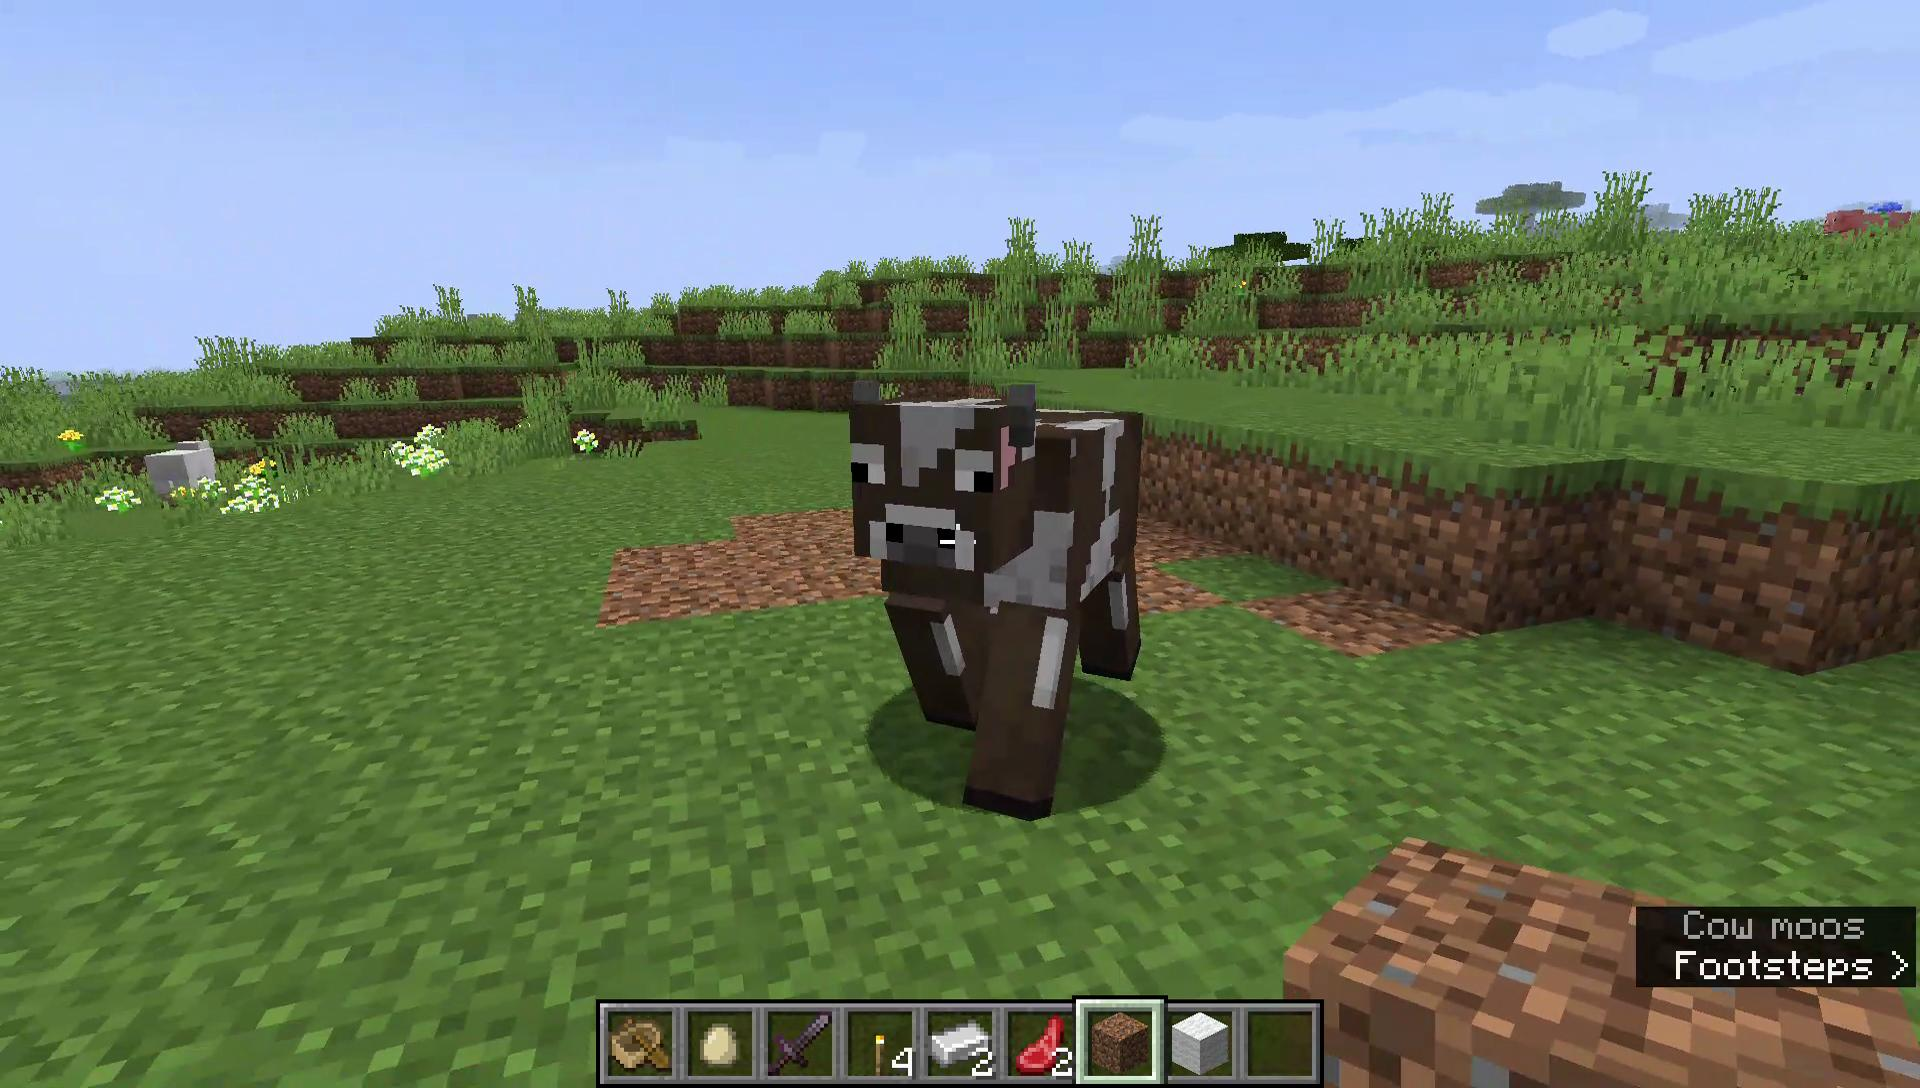cow: (839, 367, 1158, 828)
